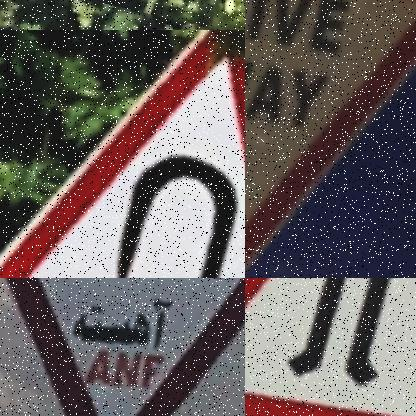Bridge Ahead: (245, 278, 416, 416)
Give Way: (245, 0, 416, 278)
Slow: (3, 278, 245, 416)
U-Turn: (0, 31, 245, 278)
